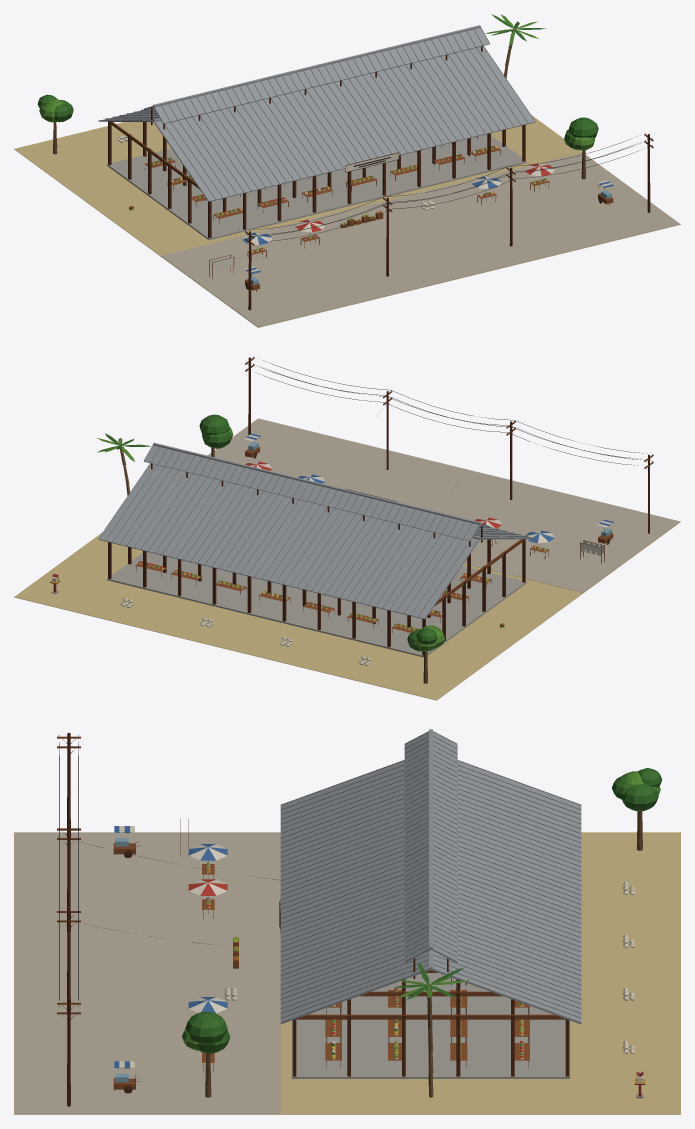
File: market.glb
The picture shows the model from 3 angles, top to bottom: view 1: azimuth 30°, elevation 25°; view 2: azimuth 150°, elevation 25°; view 3: azimuth 270°, elevation 25°; orthographic projection. The views are drawn at different scales.
Parts seen in each view (by area): view 1: body; view 2: body; view 3: body.
Part boxes in pixels (left/top/right/bottom): body: left=14, top=14, right=680, bottom=327; body: left=14, top=356, right=680, bottom=700; body: left=14, top=729, right=680, bottom=1114.
Bounding box in the file's own units: 49.02 × 11.04 × 47.9.
